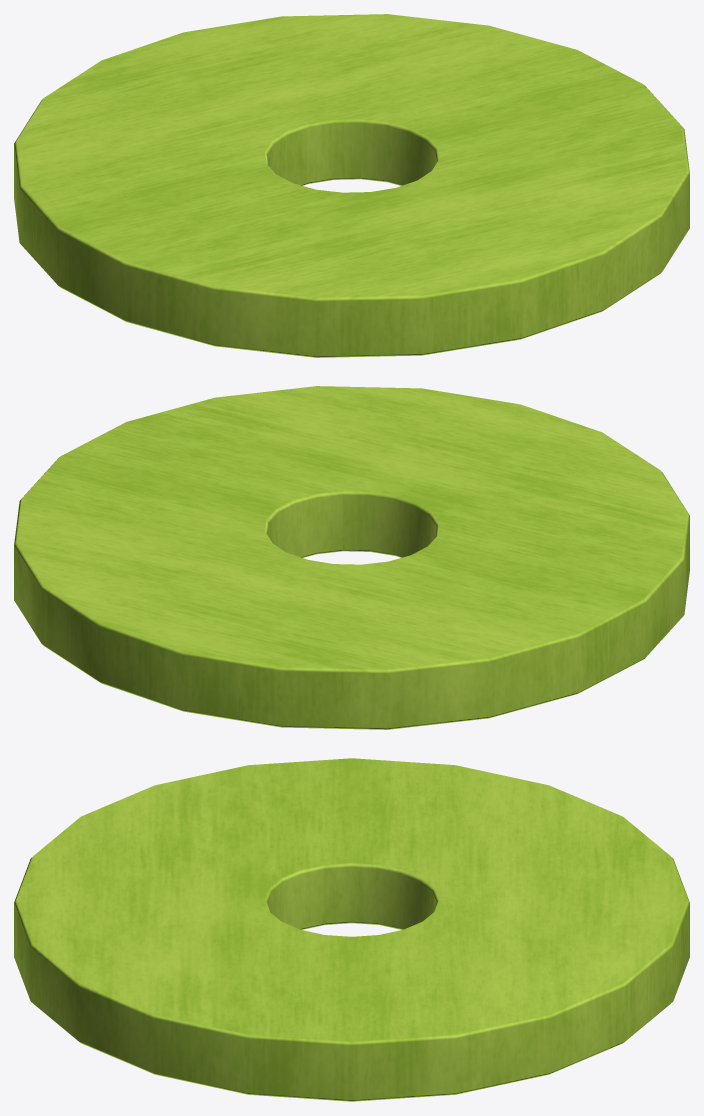
Rendered from stone3.fbx.
3 views of the same model, one above another, from view 1: azimuth 30°, elevation 25°; view 2: azimuth 150°, elevation 25°; view 3: azimuth 270°, elevation 25° (orthographic).
Visible parts, largest first — view 1: stone; view 2: stone; view 3: stone.
Part boxes in pixels (x1,y1,x2,y2): stone: [14, 14, 689, 357]; stone: [14, 386, 689, 729]; stone: [14, 758, 689, 1101].
Size of the model in its own units: 1.32 by 0.1295 by 1.32.
